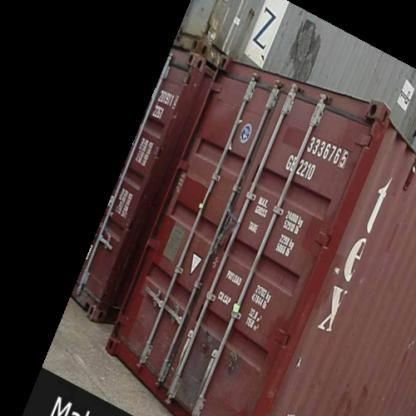Damage: (174, 329, 227, 399), (288, 351, 317, 375), (402, 336, 415, 357)
